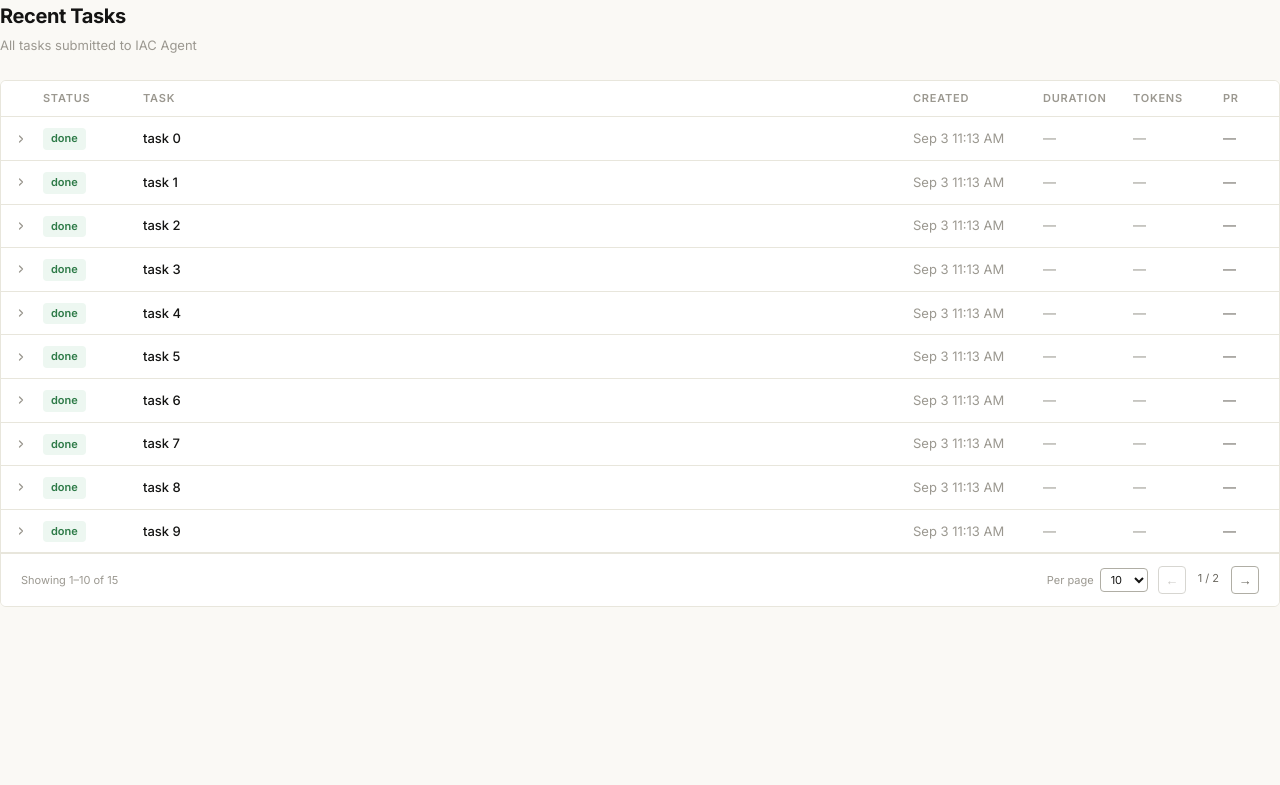
it: HistoryPage › pagination: changing page size resets to page 1
The image size is (1280, 785).
expect the text "task 0" is shown: met, box left=143, top=128, right=181, bottom=149
Click the button "→" at (1245, 580), box left=1231, top=566, right=1259, bottom=594
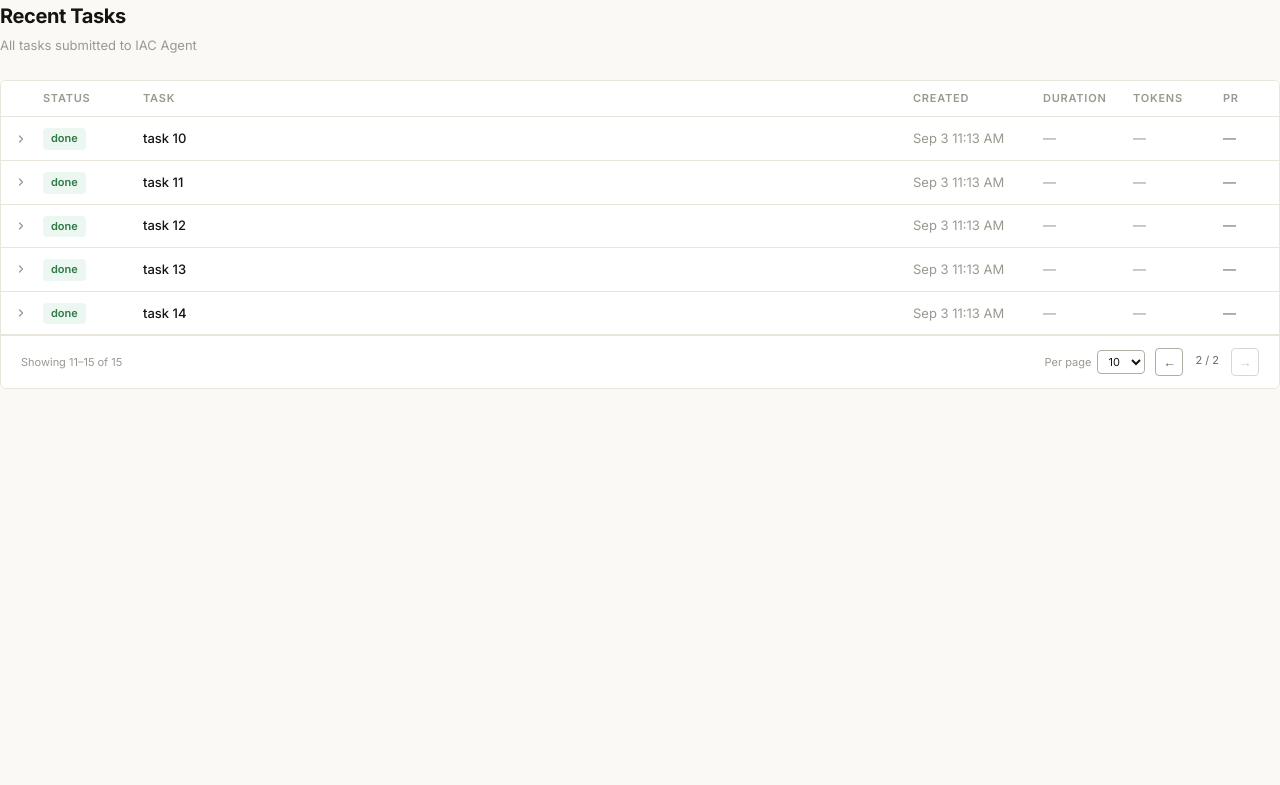
expect the text "task 0" is gone: met
// Changing page size should reset back to page 1.
Select "25" in the dropdown at (1121, 362), box left=1097, top=350, right=1145, bottom=374
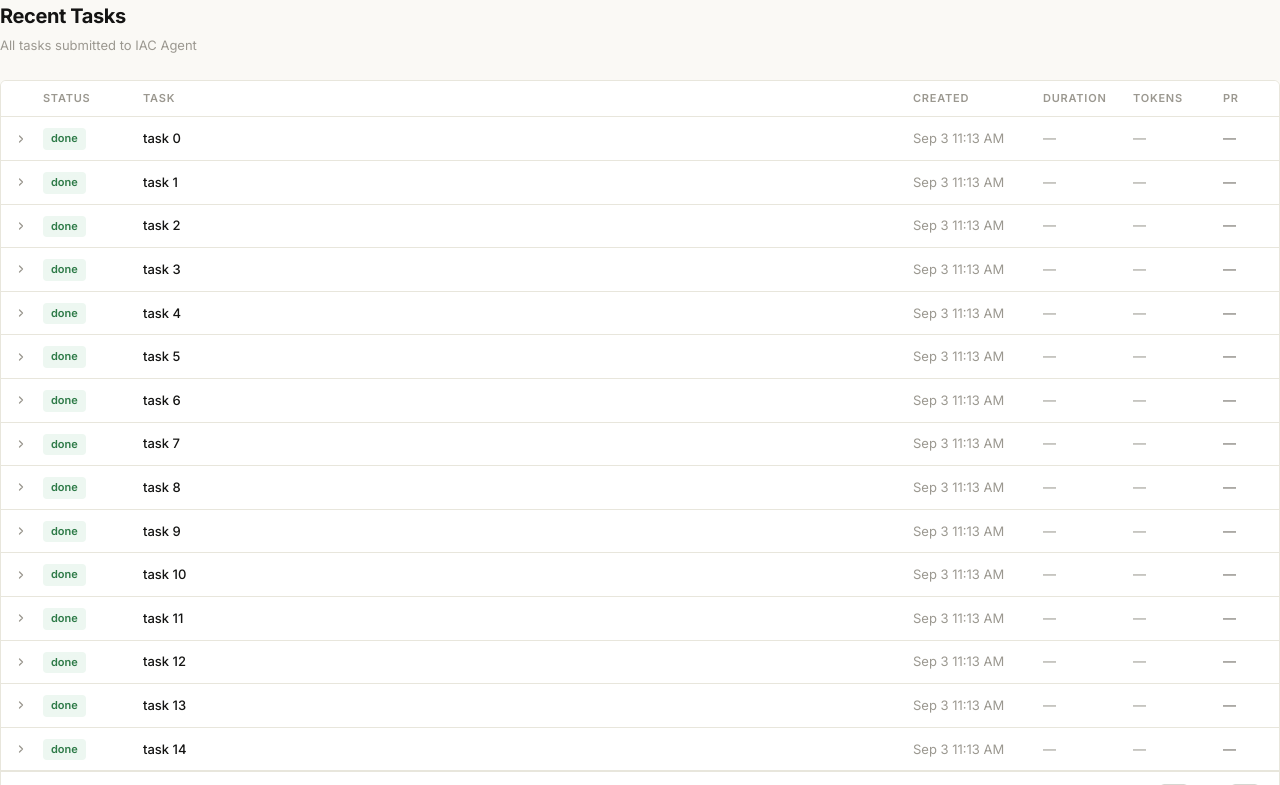
expect the text "task 0" is shown: met, box left=143, top=128, right=181, bottom=149
